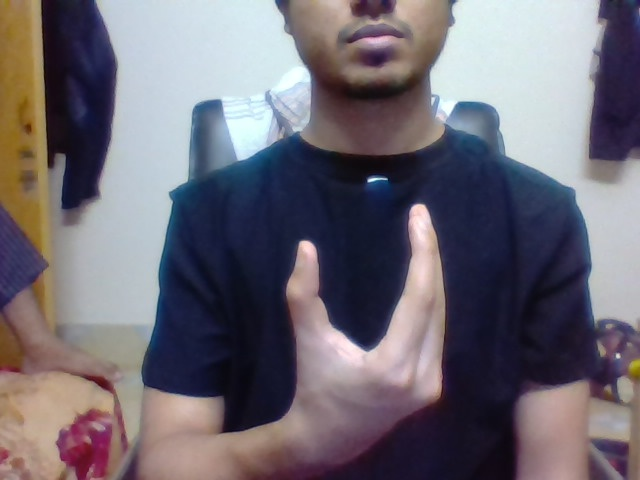U: (279, 194, 455, 372)
